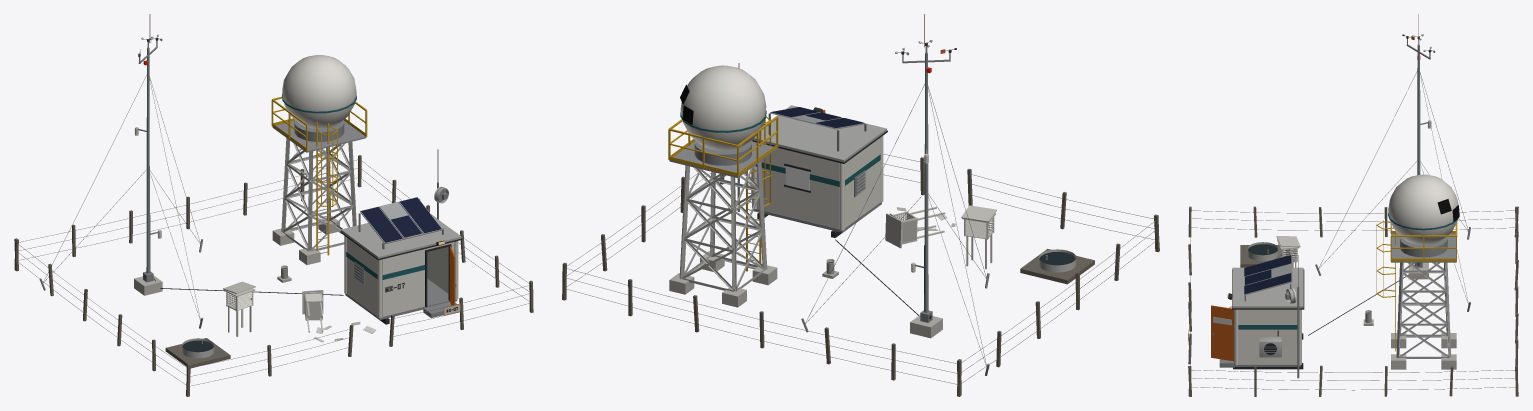
The model's file is weather-station.glb.
The picture shows the model from 3 angles, left to right: view 1: azimuth 30°, elevation 25°; view 2: azimuth 150°, elevation 25°; view 3: azimuth 270°, elevation 25°; orthographic projection. The views are drawn at different scales.
Visible parts, largest first — view 1: C0_0_lod0, C0_-1_lod0, C-1_0_lod0, C-1_-1_lod0; view 2: C0_0_lod0, C0_-1_lod0, C-1_-1_lod0, C-1_0_lod0; view 3: C0_0_lod0, C0_-1_lod0, C-1_0_lod0, C-1_-1_lod0.
Part boxes in pixels (x1,y1,x2,y2): C0_0_lod0: [19, 55, 529, 301]; C0_-1_lod0: [302, 149, 533, 346]; C-1_0_lod0: [14, 14, 343, 384]; C-1_-1_lod0: [117, 281, 353, 396]; C0_0_lod0: [562, 65, 956, 384]; C0_-1_lod0: [680, 63, 924, 248]; C-1_-1_lod0: [901, 169, 1159, 310]; C-1_0_lod0: [801, 14, 1155, 396]; C0_0_lod0: [1191, 174, 1518, 396]; C0_-1_lod0: [1188, 255, 1322, 396]; C-1_0_lod0: [1191, 14, 1518, 335]; C-1_-1_lod0: [1188, 206, 1322, 311].
Size of what is drawn, in the model's own units: 15.16 by 11.53 by 13.16.
